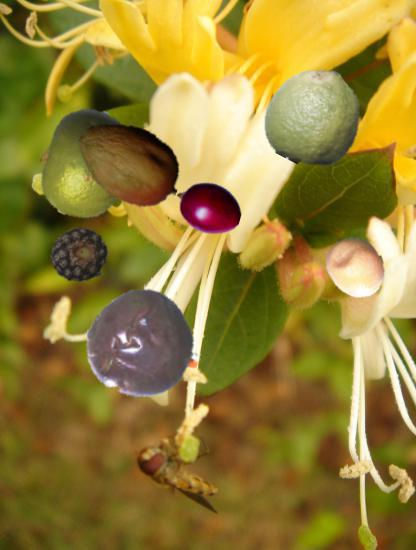Kumquats: (324, 236, 388, 300)
Limes: (265, 67, 365, 167)
Papaya: (74, 108, 184, 218)
Passion: (86, 286, 201, 401)
Pineapple: (50, 225, 110, 285)
Pomelo: (32, 109, 143, 220)
Tamarillo: (175, 174, 243, 242)
